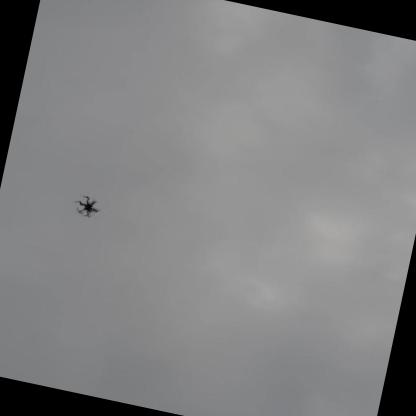drone: (69, 189, 107, 220)
